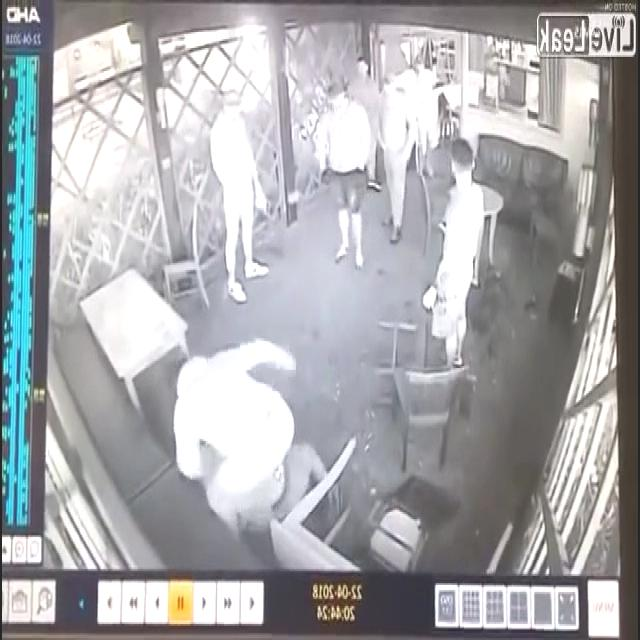fight: (162, 332, 329, 536)
